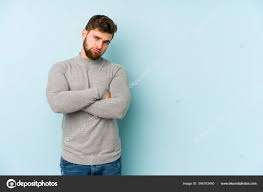white_male: (81, 20, 120, 64)
